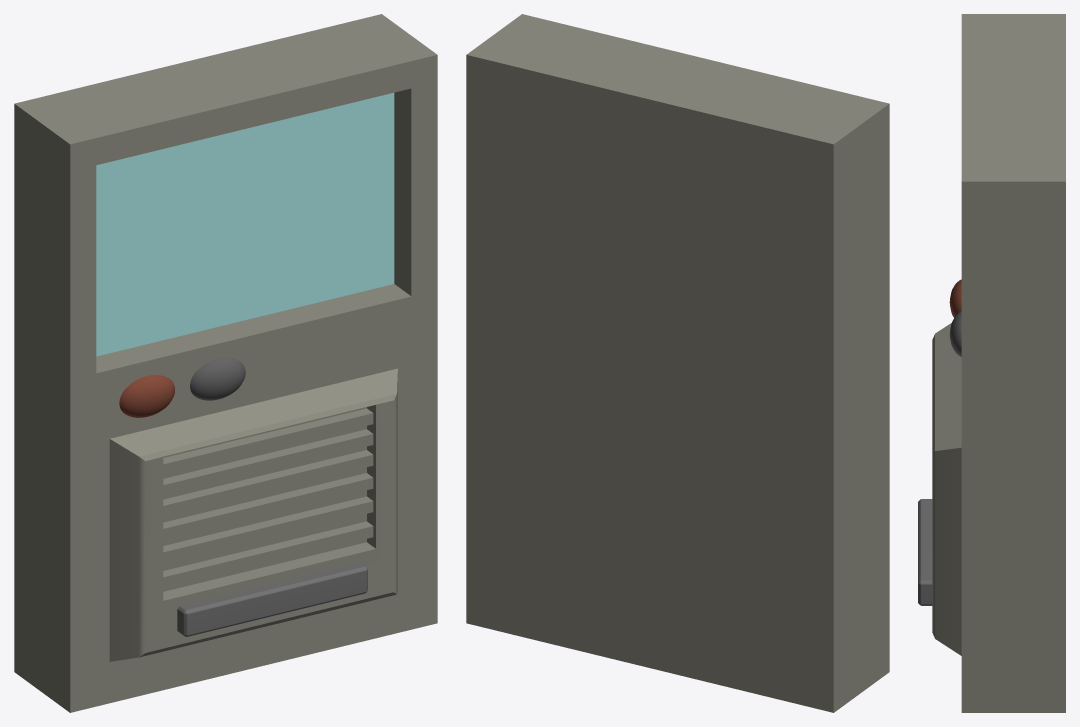
File: Wall Pannel.fbx
3 views of the same model, side by side, from view 1: azimuth 30°, elevation 25°; view 2: azimuth 150°, elevation 25°; view 3: azimuth 270°, elevation 25° (orthographic). The views are drawn at different scales.
Parts seen in each view (by area): view 1: pCube1, pCube4, pCube3, pCube2, pasted__pasted__pasted__pasted__pasted__pCube2, pasted__pCube2, pasted__pasted__pasted__pasted__pCube2, pasted__pasted__pCube2, pasted__pasted__pasted__pCube2, pasted__pSphere1, pSphere1; view 2: pCube1; view 3: pCube1, pCube3, pasted__pSphere1, pSphere1.
Part boxes in pixels (x1,y1,x2,y2): pCube1: [14, 14, 437, 712]; pCube4: [96, 92, 394, 356]; pCube3: [177, 562, 367, 636]; pCube2: [163, 408, 373, 475]; pasted__pasted__pasted__pasted__pasted__pCube2: [163, 521, 373, 588]; pasted__pCube2: [163, 429, 373, 495]; pasted__pasted__pasted__pasted__pCube2: [163, 496, 373, 563]; pasted__pasted__pCube2: [163, 450, 373, 516]; pasted__pasted__pasted__pCube2: [163, 473, 373, 539]; pasted__pSphere1: [190, 357, 245, 400]; pSphere1: [119, 375, 174, 417]; pCube1: [466, 14, 889, 712]; pCube1: [932, 14, 1065, 712]; pCube3: [918, 499, 932, 605]; pasted__pSphere1: [949, 311, 961, 356]; pSphere1: [949, 279, 961, 317].
Size of the model in its own units: 3.81 by 5.63 by 1.42.
